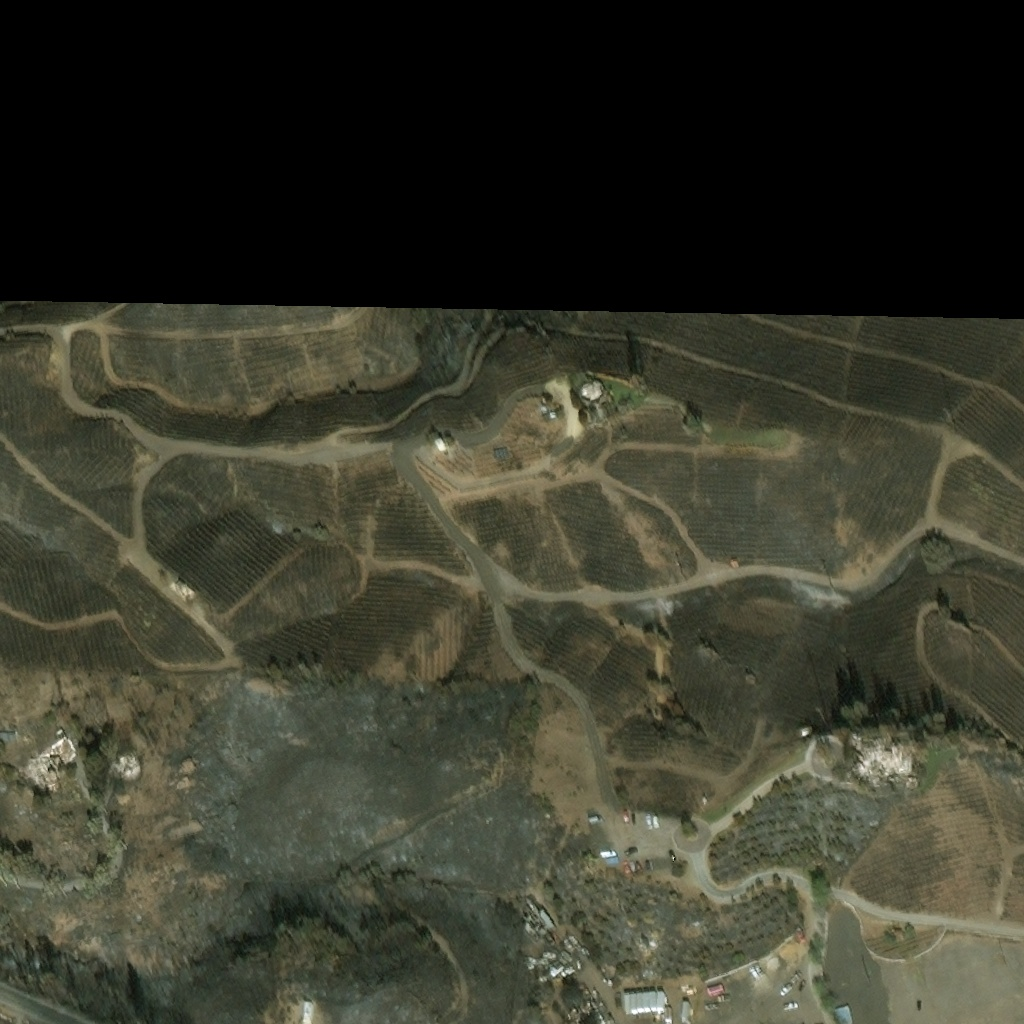0 no-damage: (579, 384, 608, 413), (522, 899, 544, 925), (521, 908, 540, 930), (299, 1000, 314, 1023), (536, 925, 554, 944), (833, 1007, 854, 1023), (537, 908, 554, 927), (522, 921, 539, 940), (847, 999, 857, 1023), (833, 999, 849, 1013), (173, 581, 188, 594), (550, 379, 565, 390), (681, 1003, 689, 1023), (643, 992, 650, 1014), (655, 992, 663, 1011), (0, 734, 15, 744), (636, 993, 643, 1014), (650, 992, 656, 1014), (630, 993, 636, 1014), (436, 443, 447, 454), (624, 994, 630, 1014), (893, 929, 904, 938), (793, 924, 801, 933), (604, 1017, 613, 1023)
3 destroyed: (26, 725, 75, 797), (854, 737, 913, 787), (112, 748, 141, 777), (65, 727, 79, 744)
